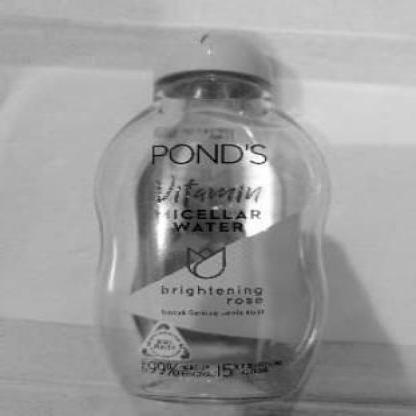objects: (98, 32, 335, 416)
